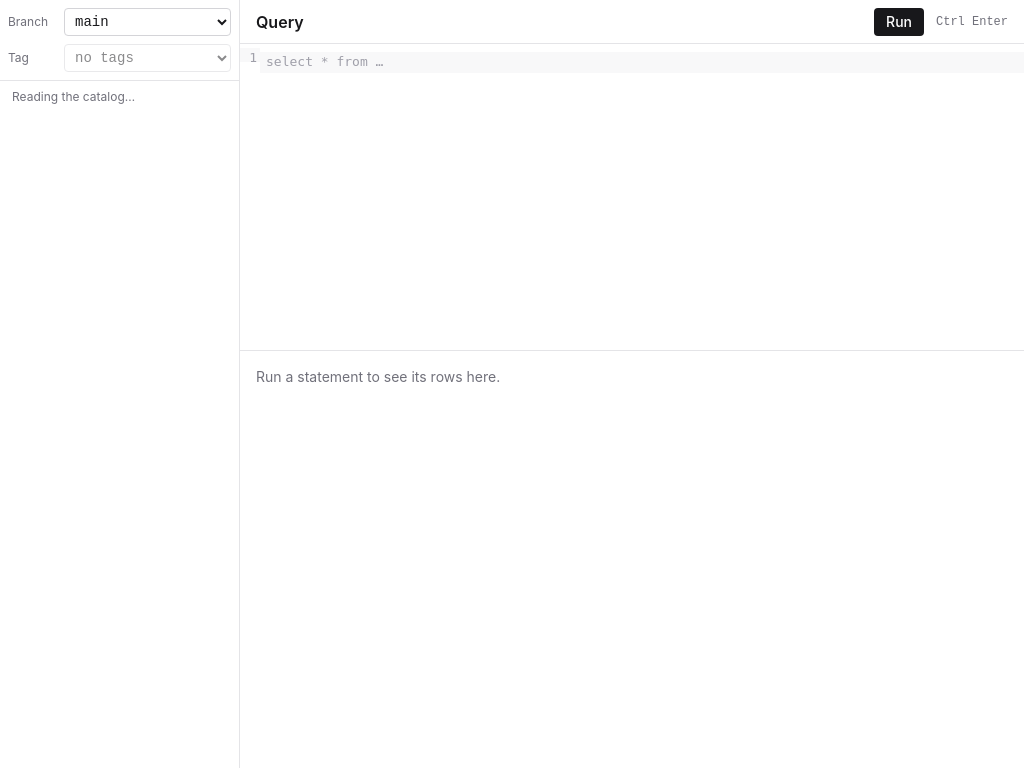
QueryPage › says there is nothing to run when the editor is empty
The width and height of the screenshot is (1024, 768).
Click the button "Run": (899, 22) [874,8,924,36]
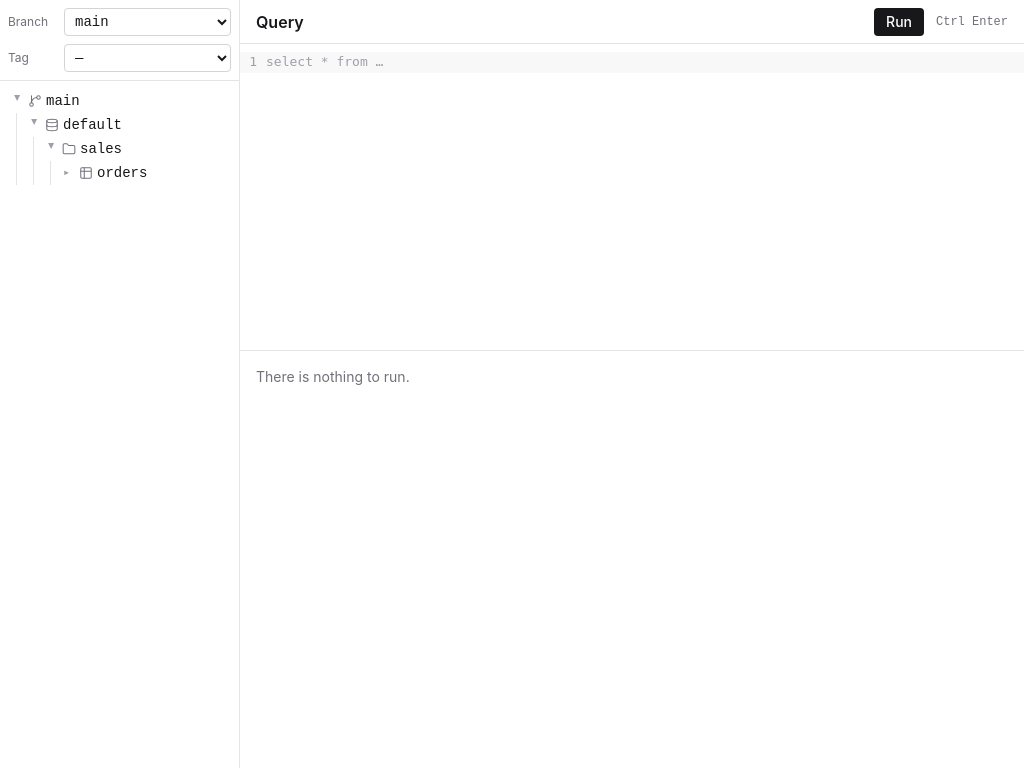
Now the element named "Results" shows "nothing to run", box [256,368,410,385]
